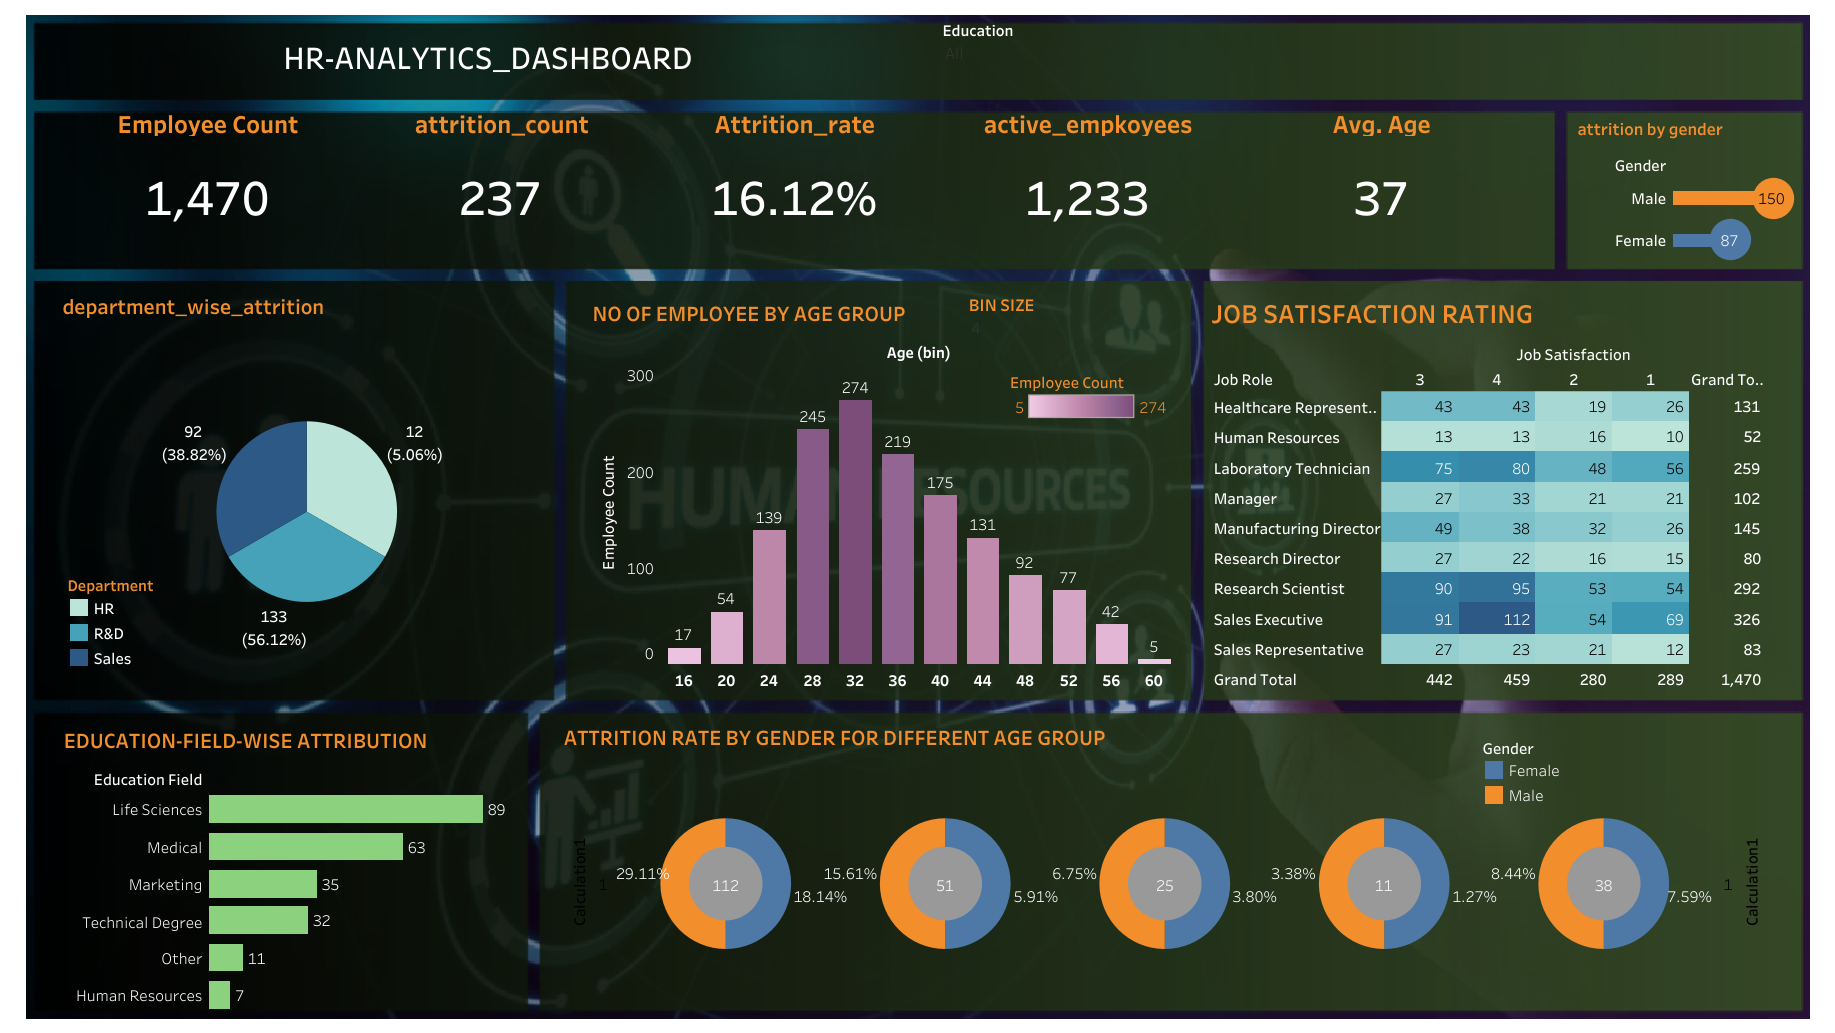

Layout of this report page (visuals, bound fields, positions):
{"tool":"tableau","page":{"name":"HR-ANALYTICS_DASHBOARD","canvas":[1469,827],"ordinal":0},"visuals":[{"type":"image","param":"Image/HR background.pptx.png","box":[8,8,1453,811]},{"type":"text","box":[53.9,13.4,673.1,62.4]},{"type":"filter","title":"department_wise_attrition","param":"[federated.06e0zhk1ijqa8i1awg06j1k8du4s].[none:Education:nk]","box":[754,14.4,148.8,61.4]},{"type":"worksheet","title":"attrition by gender","mark":"Automatic","rows":["Gender"],"cols":["Calculation_29273424978141184","Calculation_29273424978141184"],"box":[1258,87,181,122]},{"type":"worksheet","title":"key_page","mark":"Automatic","box":[49.3,88.3,1173.3,119]},{"type":"worksheet","title":"department_wise_attrition","mark":"Pie","box":[46.5,227.4,397.9,326.2]},{"type":"worksheet","title":"JOB SATISFACTION RATING","mark":"Square","rows":["Job Role"],"cols":["Job Satisfaction"],"box":[965.1,230.3,448.1,325.2]},{"type":"worksheet","title":"NO OF EMPLOYEE BY AGE GROUP","mark":"Automatic","rows":["Employee Count"],"cols":["Age (bin)"],"box":[469.5,233.1,470.4,319.5]},{"type":"parameter","param":"[Parameters].[Parameter 1]","box":[775.4,233.1,169.2,60.4]},{"type":"legend","title":"NO OF EMPLOYEE BY AGE GROUP","param":"[federated.06e0zhk1ijqa8i1awg06j1k8du4s].[sum:Employee Count:qk]","box":[808,291.7,130.2,63.3]},{"type":"legend","title":"department_wise_attrition","param":"[federated.06e0zhk1ijqa8i1awg06j1k8du4s].[none:Department:nk]","box":[53,456.7,153.4,96.9]},{"type":"worksheet","title":"ATTRITION RATE BY GENDER FOR DIFFERENT AGE GROUP","mark":"Pie","rows":["Calculation_29273426067329032","Calculation_29273426067329032"],"cols":["CF_age band"],"box":[447.2,571.8,969.7,231.2]},{"type":"worksheet","title":"EDUCATION-FIELD-WISE ATTRIBUTION ","mark":"Automatic","rows":["Education Field"],"cols":["Calculation_29273424978141184"],"box":[47.4,573.7,372.8,237]},{"type":"legend","title":"ATTRITION RATE BY GENDER FOR DIFFERENT AGE GROUP","param":"[federated.06e0zhk1ijqa8i1awg06j1k8du4s].[none:Gender:nk]","box":[1185.4,587.2,130.2,61.4]}]}

Visuals, with their boxes in screenshot pixels (x1, y1, x2, y2), scaled from the page's 1469x827 canvas onto the 1835x1033 screenshot:
image: select_region(10, 10, 1825, 1023)
text: select_region(67, 17, 908, 95)
"department_wise_attrition" filter: select_region(942, 18, 1128, 95)
"attrition by gender" worksheet: select_region(1571, 109, 1798, 261)
"key_page" worksheet: select_region(62, 110, 1527, 259)
"department_wise_attrition" worksheet (Pie marks): select_region(58, 284, 555, 691)
"JOB SATISFACTION RATING" worksheet (Square marks): select_region(1206, 288, 1765, 694)
"NO OF EMPLOYEE BY AGE GROUP" worksheet: select_region(586, 291, 1174, 690)
parameter: select_region(969, 291, 1180, 367)
"NO OF EMPLOYEE BY AGE GROUP" legend: select_region(1009, 364, 1172, 443)
"department_wise_attrition" legend: select_region(66, 570, 258, 691)
"ATTRITION RATE BY GENDER FOR DIFFERENT AGE GROUP" worksheet (Pie marks): select_region(559, 714, 1770, 1003)
"EDUCATION-FIELD-WISE ATTRIBUTION " worksheet: select_region(59, 717, 525, 1013)
"ATTRITION RATE BY GENDER FOR DIFFERENT AGE GROUP" legend: select_region(1481, 733, 1643, 810)
